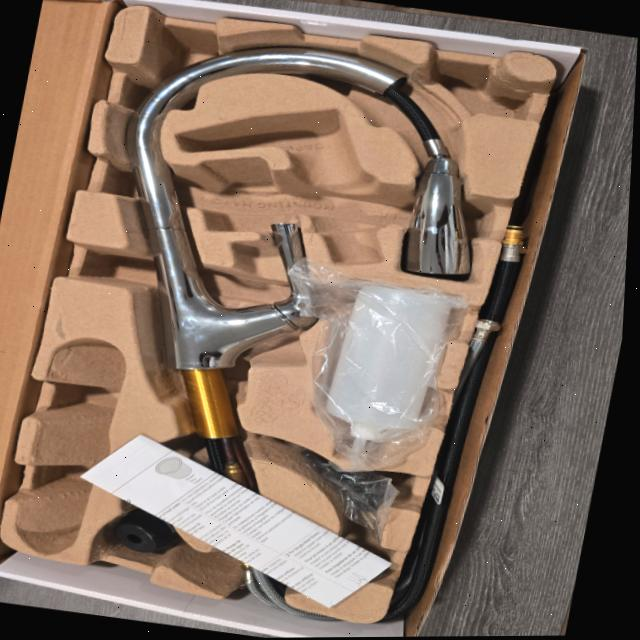1o: (125, 44, 469, 605)
2m: (174, 109, 385, 263)
3: (317, 285, 461, 459)
4m: (13, 336, 128, 555)
5o: (107, 496, 181, 550)
6m: (281, 532, 388, 591)
7: (299, 448, 398, 529)
8: (77, 433, 393, 608)
